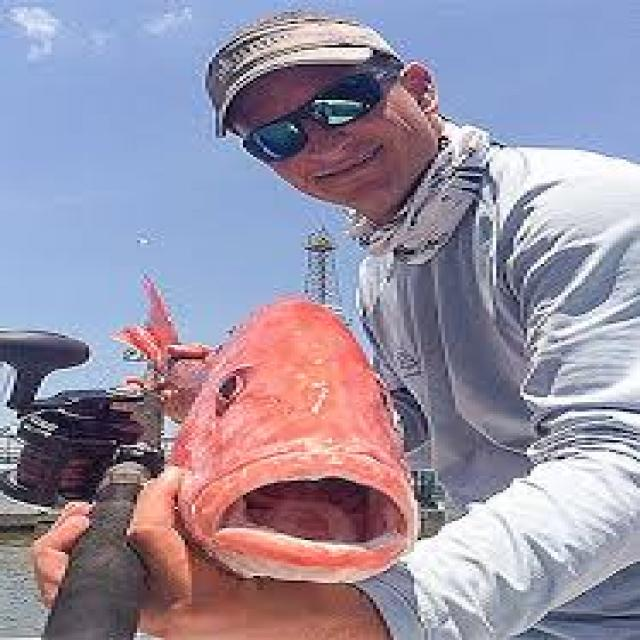northern-red-snapper: (103, 259, 455, 606)
